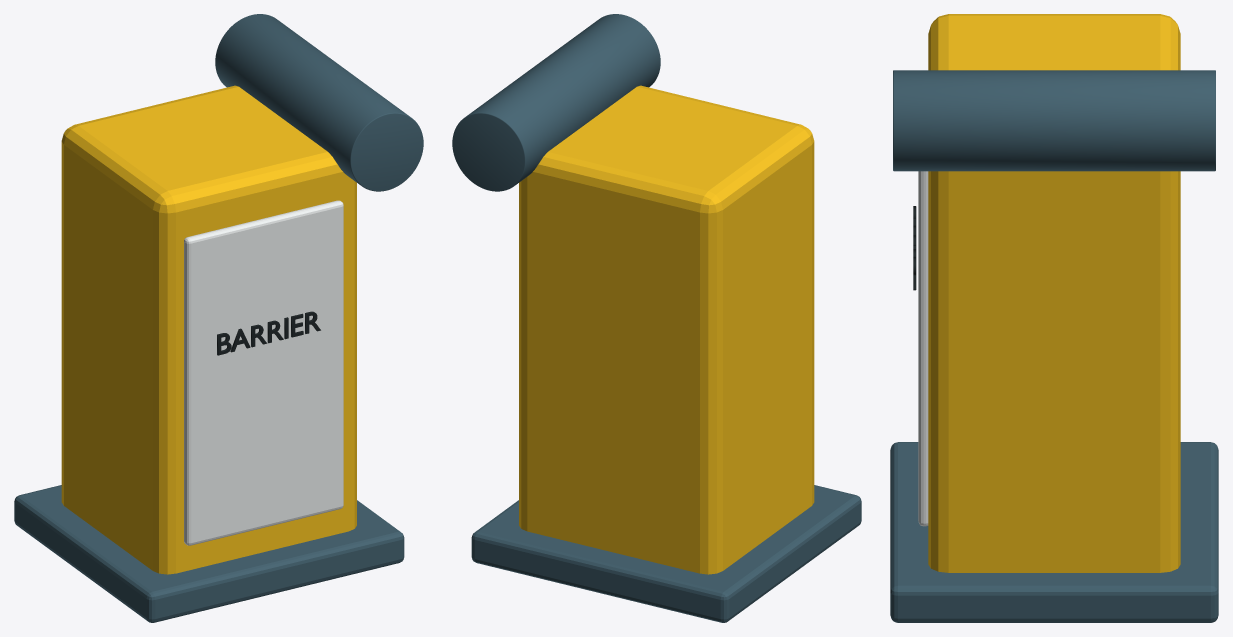
The model's file is parking_cabinet.glb.
3 renders of one model, left to right at view 1: azimuth 30°, elevation 25°; view 2: azimuth 150°, elevation 25°; view 3: azimuth 270°, elevation 25°, orthographic. The views are drawn at different scales.
Parts seen in each view (by area): view 1: CABINET_housing, CABINET_service_door, CABINET_foot, HINGE_shaft, CABINET_label; view 2: CABINET_housing, CABINET_foot, HINGE_shaft; view 3: CABINET_housing, HINGE_shaft, CABINET_foot, CABINET_service_door.
Boxes of the visible parts, <box> form: CABINET_housing: <box>61,85,356,574</box>; CABINET_service_door: <box>184,200,343,545</box>; CABINET_foot: <box>14,485,404,622</box>; HINGE_shaft: <box>215,14,423,191</box>; CABINET_label: <box>217,311,320,355</box>; CABINET_housing: <box>519,85,814,574</box>; CABINET_foot: <box>471,485,861,622</box>; HINGE_shaft: <box>452,14,660,191</box>; CABINET_housing: <box>928,14,1180,572</box>; HINGE_shaft: <box>893,70,1215,171</box>; CABINET_foot: <box>890,442,1218,622</box>; CABINET_service_door: <box>918,171,928,526</box>.
Bounding box in the file's own units: 0.75 × 1.18 × 0.65.
